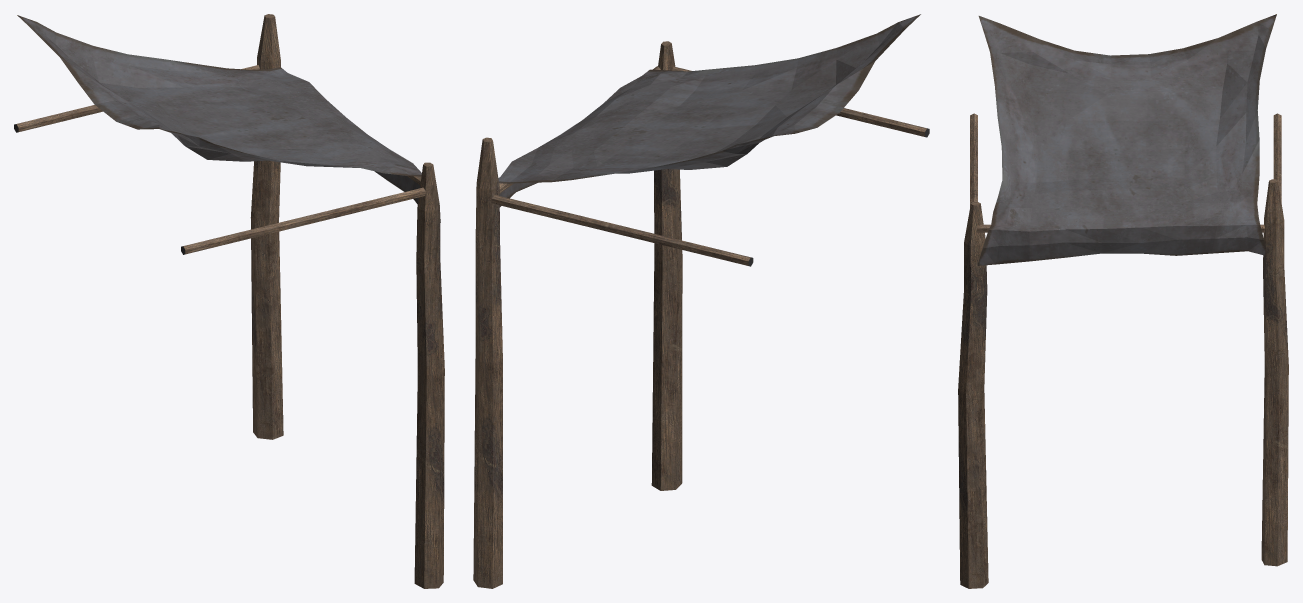
The model's file is House49.fbx.
The picture shows the model from 3 angles, left to right: view 1: azimuth 30°, elevation 25°; view 2: azimuth 150°, elevation 25°; view 3: azimuth 270°, elevation 25°; orthographic projection. The views are drawn at different scales.
Parts seen in each view (by area): view 1: AT_BGAgo_Store_B02_07B.mo; view 2: AT_BGAgo_Store_B02_07B.mo; view 3: AT_BGAgo_Store_B02_07B.mo.
Part boxes in pixels (box(x1,y1,x2,y2)): AT_BGAgo_Store_B02_07B.mo: box(14, 14, 444, 588); AT_BGAgo_Store_B02_07B.mo: box(473, 14, 929, 588); AT_BGAgo_Store_B02_07B.mo: box(958, 14, 1288, 588).
Bounding box in the file's own units: 348 × 642 × 418.
